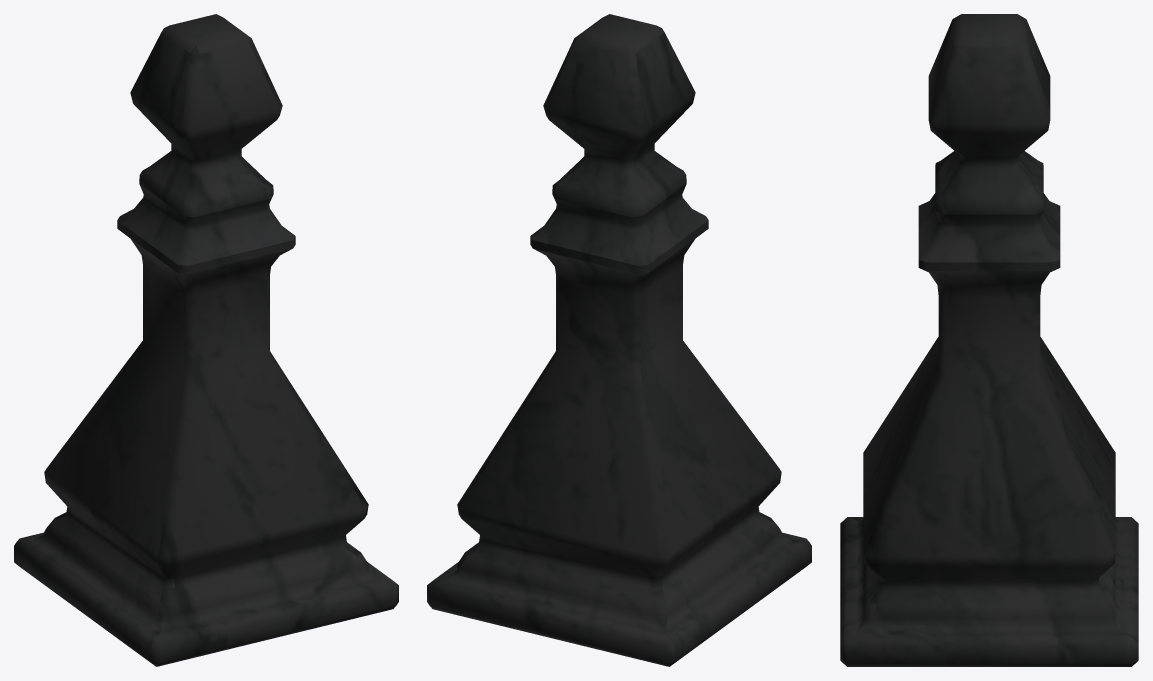
The model's file is chess_pawn_01-black.glb.
The picture shows the model from 3 angles, left to right: view 1: azimuth 30°, elevation 25°; view 2: azimuth 150°, elevation 25°; view 3: azimuth 270°, elevation 25°; orthographic projection. The views are drawn at different scales.
Parts seen in each view (by area): view 1: pawn_01; view 2: pawn_01; view 3: pawn_01.
Boxes of the visible parts, box(x1,y1,x2,y2) form: pawn_01: box(14, 14, 398, 666); pawn_01: box(427, 14, 811, 666); pawn_01: box(840, 14, 1138, 666).
Bounding box in the file's own units: 0.5712 × 1.23 × 0.5712.
1 material, 1 textured.
